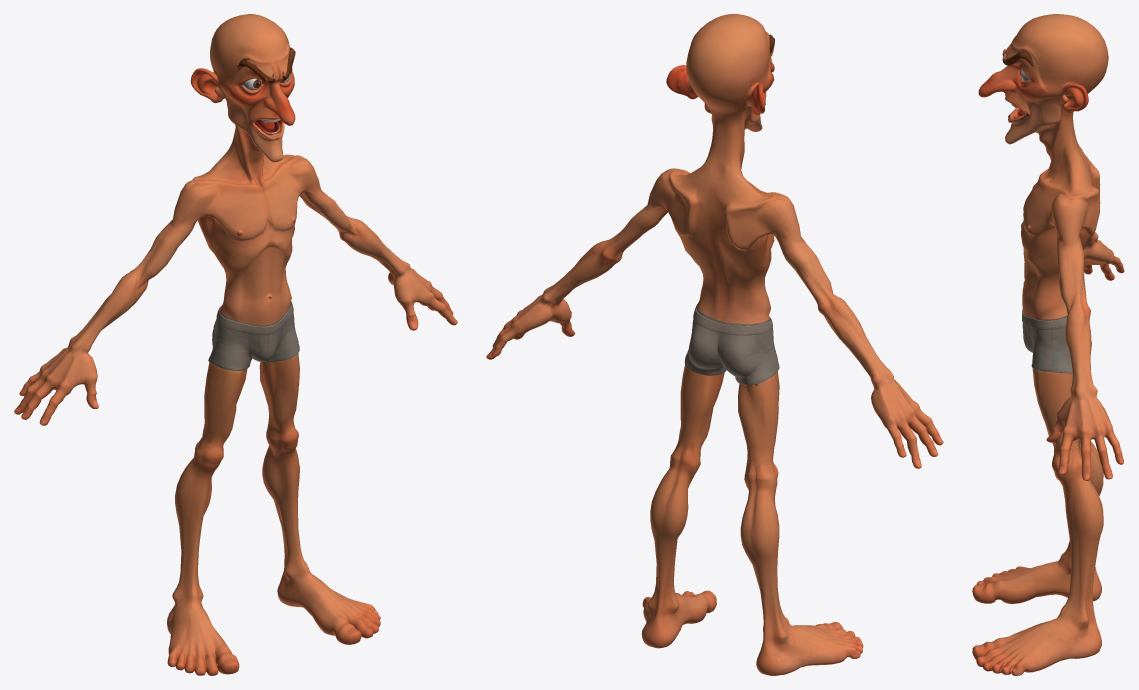
File: body.glb
3 views of the same model, side by side, from view 1: azimuth 30°, elevation 25°; view 2: azimuth 150°, elevation 25°; view 3: azimuth 270°, elevation 25° (orthographic). The views are drawn at different scales.
Parts seen in each view (by area): view 1: tripo_node_b8f65f2d-9f26-45c7-8988-ab929d3f958d; view 2: tripo_node_b8f65f2d-9f26-45c7-8988-ab929d3f958d; view 3: tripo_node_b8f65f2d-9f26-45c7-8988-ab929d3f958d.
Boxes of the visible parts, x1=… form: tripo_node_b8f65f2d-9f26-45c7-8988-ab929d3f958d: x1=14, y1=14, x2=457, y2=675; tripo_node_b8f65f2d-9f26-45c7-8988-ab929d3f958d: x1=486, y1=14, x2=943, y2=675; tripo_node_b8f65f2d-9f26-45c7-8988-ab929d3f958d: x1=972, y1=14, x2=1124, y2=675.
Bounding box in the file's own units: 0.7358 × 0.9995 × 0.2251.
1 material, 1 textured.
